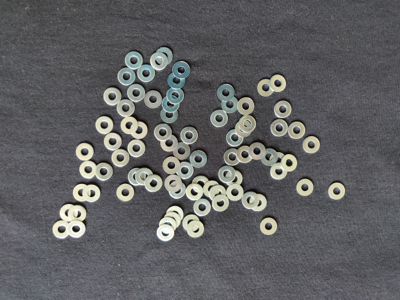circle: (258, 217, 280, 237), (302, 135, 321, 157), (328, 182, 348, 202), (67, 219, 86, 240), (287, 122, 307, 141), (270, 119, 290, 138), (255, 79, 275, 98), (168, 181, 187, 201), (116, 184, 136, 203), (144, 90, 164, 109), (295, 178, 316, 196), (241, 190, 260, 209), (217, 83, 236, 102), (160, 134, 179, 153), (162, 95, 181, 114), (117, 67, 136, 86), (103, 87, 122, 106), (117, 99, 136, 118), (281, 153, 299, 173), (192, 175, 210, 195), (164, 206, 184, 224), (162, 157, 182, 175), (167, 72, 187, 90), (144, 175, 164, 193), (79, 161, 99, 179), (76, 142, 96, 160), (60, 203, 78, 223), (274, 100, 292, 119), (269, 74, 288, 92), (270, 162, 288, 181), (261, 148, 279, 167), (250, 194, 269, 212), (226, 184, 245, 202), (237, 97, 255, 116), (222, 95, 240, 114), (226, 129, 245, 147), (211, 109, 229, 128), (190, 150, 209, 168), (173, 143, 192, 161), (154, 123, 173, 141), (160, 106, 179, 124), (151, 52, 169, 71), (125, 51, 143, 70), (127, 85, 146, 103), (130, 122, 148, 141), (128, 139, 146, 158), (103, 133, 121, 152), (96, 163, 114, 182), (52, 220, 70, 239), (157, 218, 177, 235), (128, 167, 145, 187), (171, 62, 192, 78), (224, 147, 242, 165), (209, 185, 227, 203), (156, 47, 174, 65), (95, 117, 113, 135), (112, 149, 130, 167), (83, 185, 101, 203), (73, 183, 91, 201), (237, 145, 254, 164), (183, 214, 200, 233), (176, 162, 195, 179), (166, 86, 185, 103), (137, 168, 154, 187), (137, 66, 156, 83), (68, 205, 87, 222), (270, 151, 287, 169), (250, 142, 267, 160), (226, 171, 244, 188), (219, 165, 236, 183), (203, 181, 221, 198), (194, 199, 212, 216), (188, 221, 205, 239), (165, 175, 182, 193), (181, 127, 199, 144), (121, 118, 139, 135), (156, 226, 175, 242), (186, 184, 203, 201), (240, 116, 257, 133), (212, 196, 230, 212), (164, 212, 182, 228), (235, 121, 252, 137)
